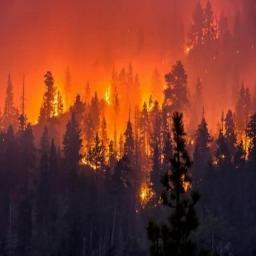Large fire: (0, 1, 256, 202)
